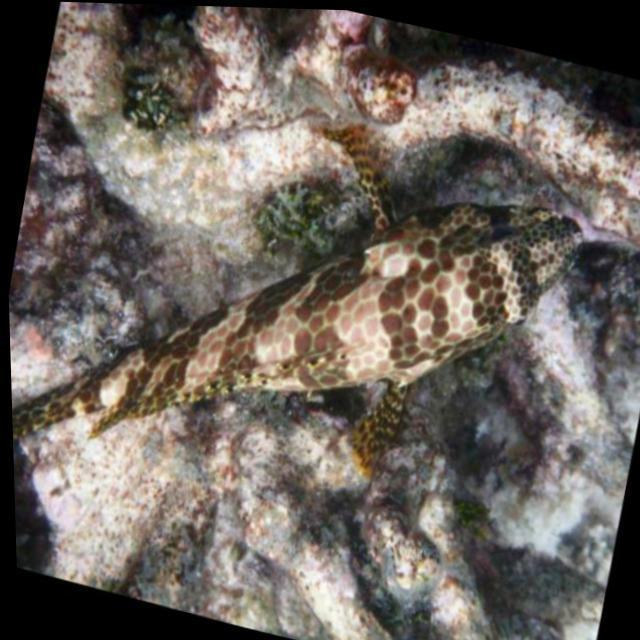Dead Coral: (65, 2, 640, 253), (81, 416, 507, 640)
